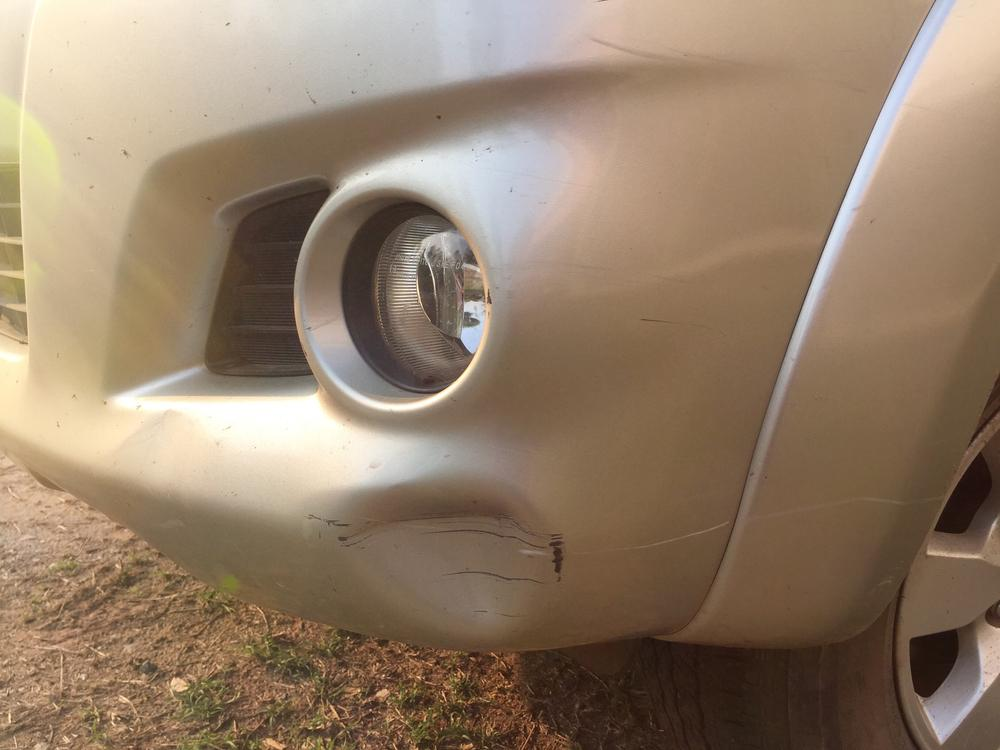dent: (346, 477, 544, 634)
